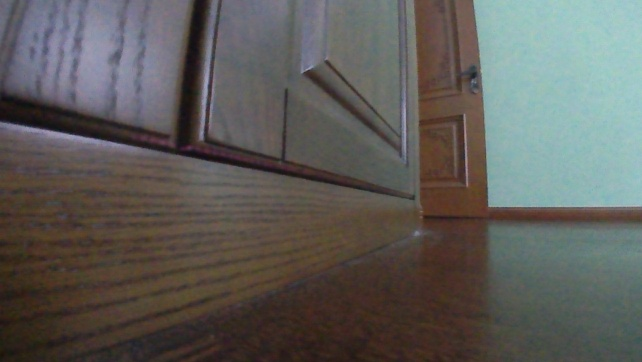door_anno: (414, 0, 492, 220)
